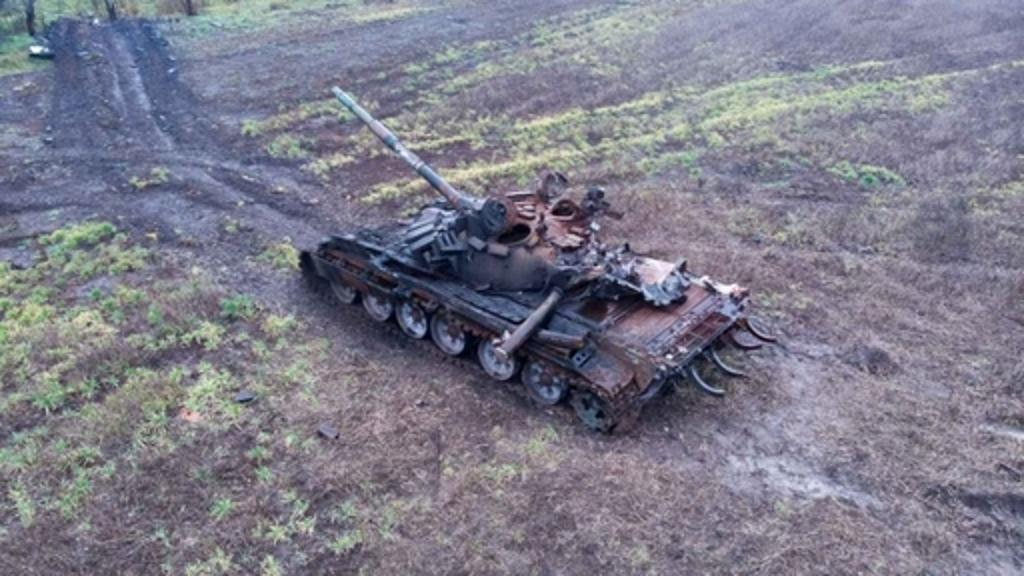TANK: (304, 64, 780, 448)
